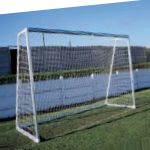goals: (14, 26, 137, 142)
